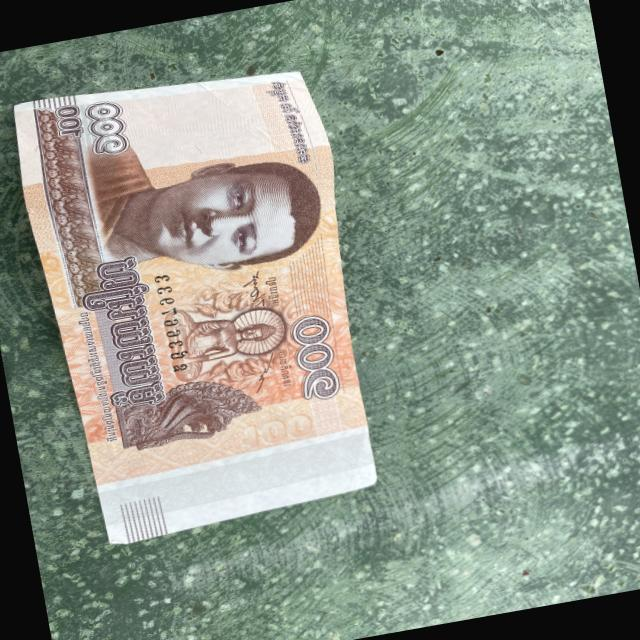2: (262, 79, 318, 165)
534: (236, 408, 318, 453), (51, 100, 83, 143)
730: (149, 274, 188, 350)
Yolov11_80vkh: (60, 246, 175, 414), (71, 308, 122, 447), (286, 304, 345, 405), (83, 100, 134, 164), (275, 348, 293, 392), (166, 348, 192, 375), (264, 274, 283, 309)
